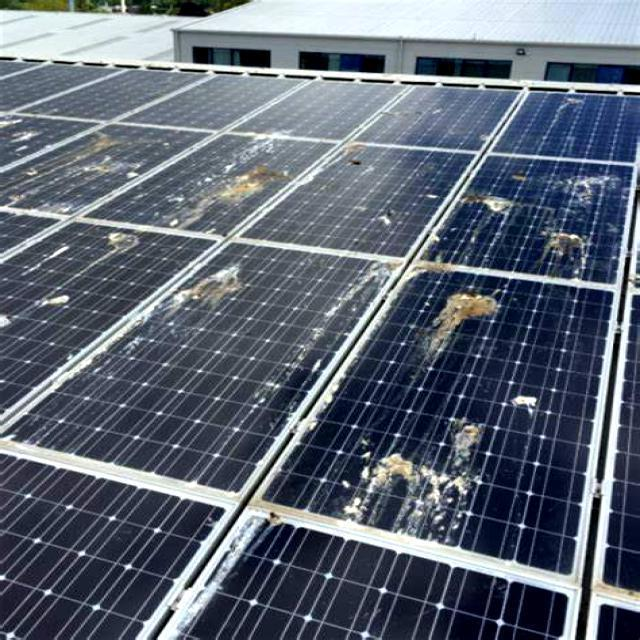soiled: (0, 73, 639, 626)
